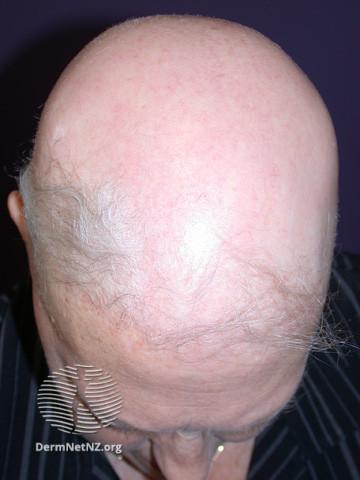Alopecia Areata: (103, 42, 297, 339)
